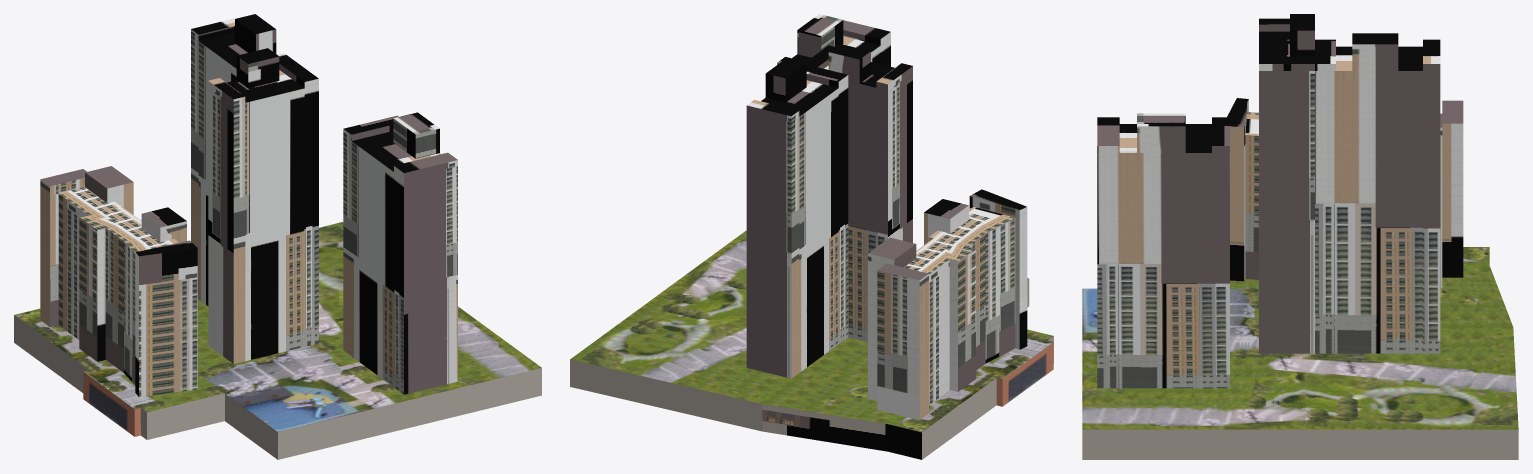
The model's file is ICJ00101_A.glb.
3 renders of one model, left to right at view 1: azimuth 30°, elevation 25°; view 2: azimuth 150°, elevation 25°; view 3: azimuth 270°, elevation 25°, orthographic. The views are drawn at different scales.
Visible parts, largest first — view 1: MainBuilding; view 2: MainBuilding; view 3: MainBuilding.
Part boxes in pixels (left/top/right/bottom): MainBuilding: left=14, top=14, right=541, bottom=459; MainBuilding: left=570, top=14, right=1053, bottom=459; MainBuilding: left=1082, top=14, right=1518, bottom=459.
Size of the model in its own units: 3007 by 2565 by 2985.
Materials: 1 (1 with a texture image).
